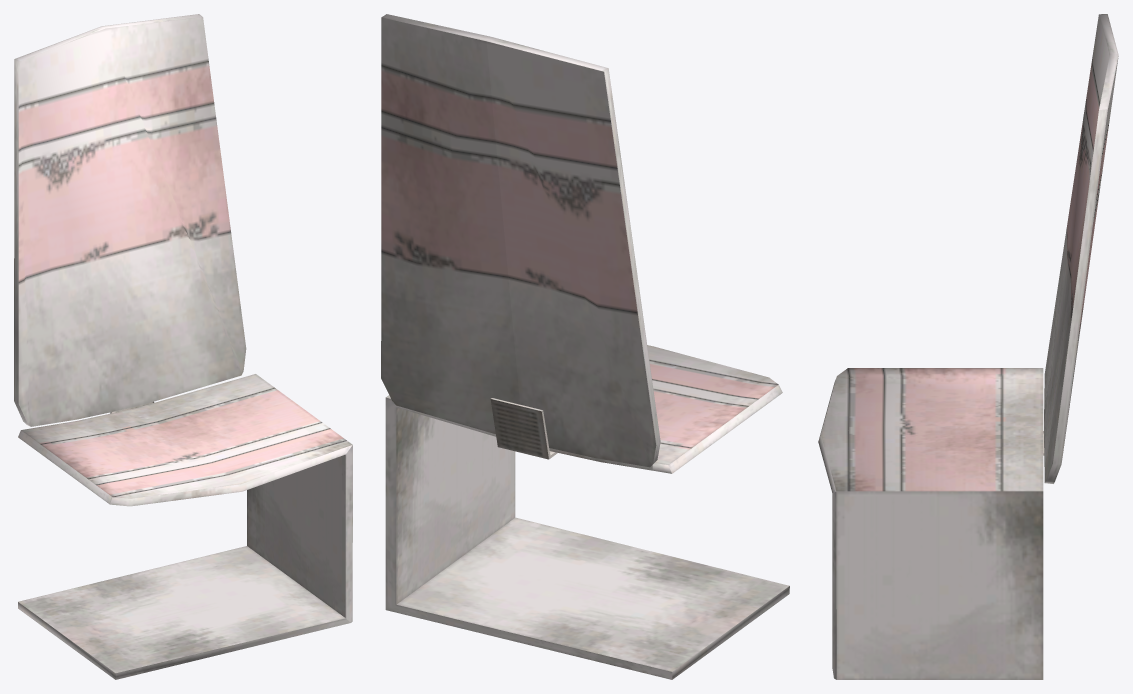
File: frn_all_chair_kitchen_s2_l1.fbx
3 views of the same model, side by side, from view 1: azimuth 30°, elevation 25°; view 2: azimuth 150°, elevation 25°; view 3: azimuth 270°, elevation 25° (orthographic). The views are drawn at different scales.
Visible parts, largest first — view 1: mesh_node; view 2: mesh_node; view 3: mesh_node.
Boxes of the visible parts, left/top/right/bottom form: mesh_node: left=14, top=14, right=352, bottom=679; mesh_node: left=381, top=14, right=789, bottom=679; mesh_node: left=818, top=14, right=1118, bottom=679.
Size of the model in its own units: 0.56 by 1.19 by 0.5738.
